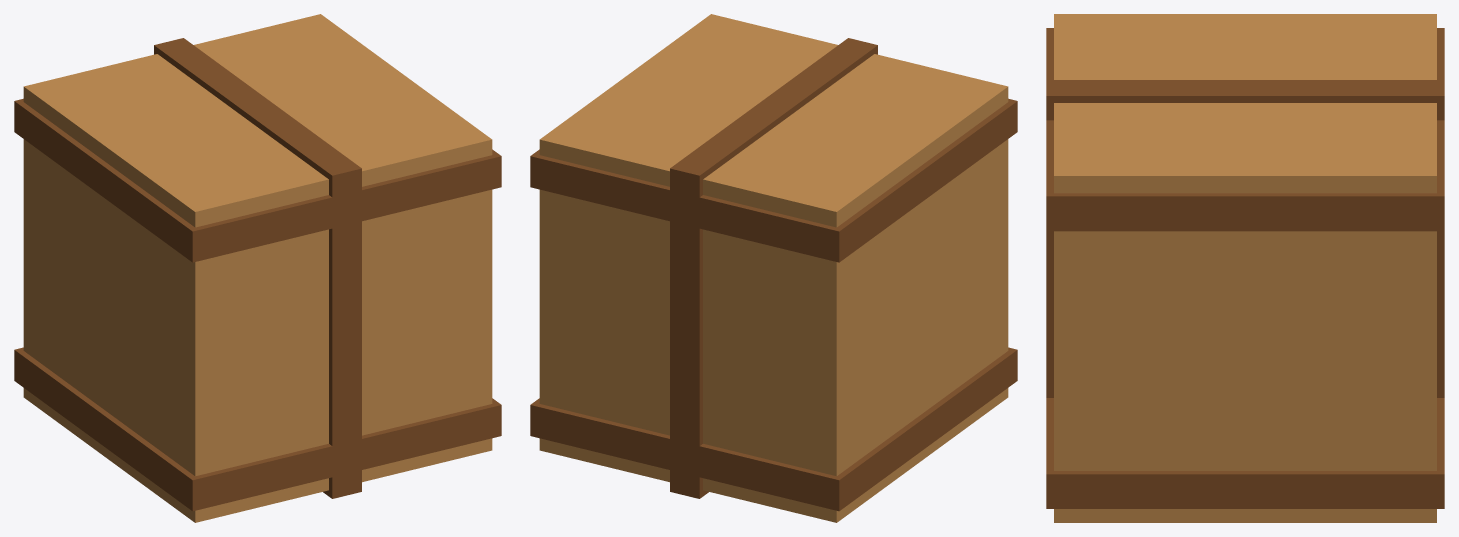
Rendered from cargo_crate.glb.
3 renders of one model, left to right at view 1: azimuth 30°, elevation 25°; view 2: azimuth 150°, elevation 25°; view 3: azimuth 270°, elevation 25°, orthographic. The views are drawn at different scales.
Parts seen in each view (by area): view 1: cargo_crate; view 2: cargo_crate; view 3: cargo_crate.
Part boxes in pixels (x1,y1,x2,y2): cargo_crate: [14, 14, 501, 522]; cargo_crate: [530, 14, 1017, 522]; cargo_crate: [1046, 14, 1444, 522].
Bounding box in the file's own units: 1.04 × 1.04 × 1.04.
